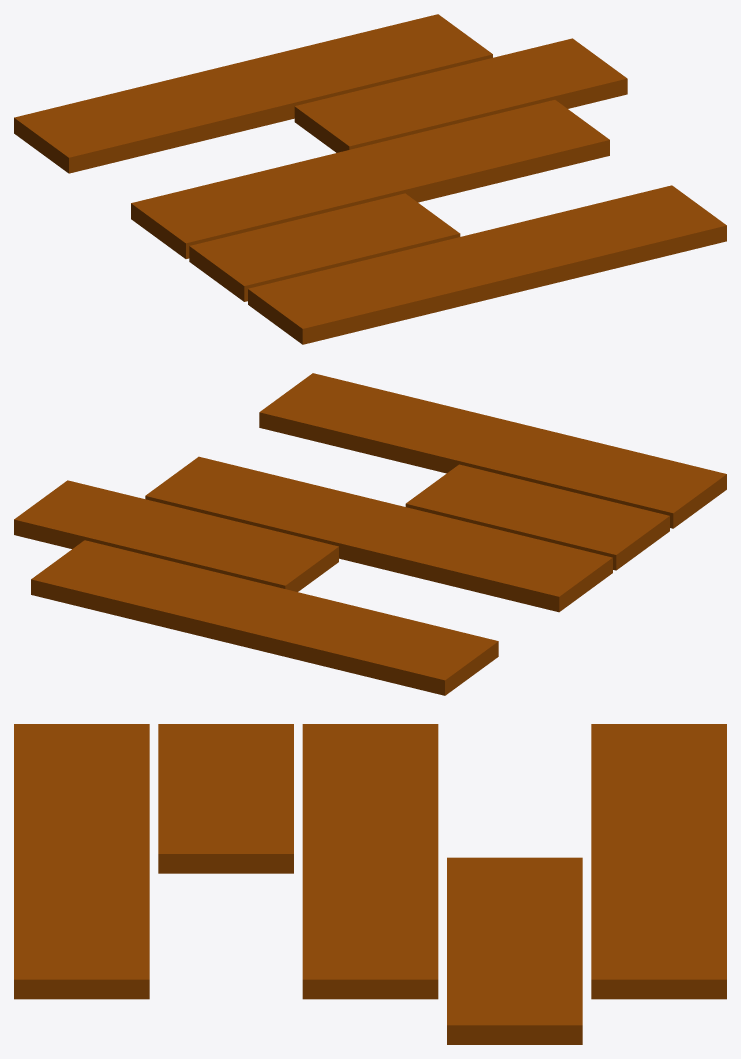
File: RPG_Tiles_Square_Wooden_Boards_15.FBX
3 renders of one model, top to bottom at view 1: azimuth 30°, elevation 25°; view 2: azimuth 150°, elevation 25°; view 3: azimuth 270°, elevation 25°, orthographic. The views are drawn at different scales.
Parts seen in each view (by area): view 1: RPG_Tiles_Square_Wooden_Boards_15; view 2: RPG_Tiles_Square_Wooden_Boards_15; view 3: RPG_Tiles_Square_Wooden_Boards_15.
Boxes of the visible parts, x1,y1,x2,y2 form: RPG_Tiles_Square_Wooden_Boards_15: (14, 14, 726, 344); RPG_Tiles_Square_Wooden_Boards_15: (14, 373, 726, 695); RPG_Tiles_Square_Wooden_Boards_15: (14, 724, 726, 1044).
Bounding box in the file's own units: 2964 × 90 × 2964.
